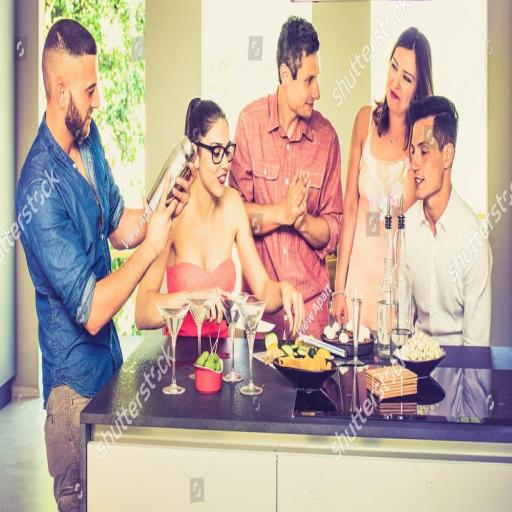person: (16, 20, 189, 511), (136, 99, 304, 331), (230, 17, 342, 337), (332, 28, 432, 329), (406, 96, 492, 345)
